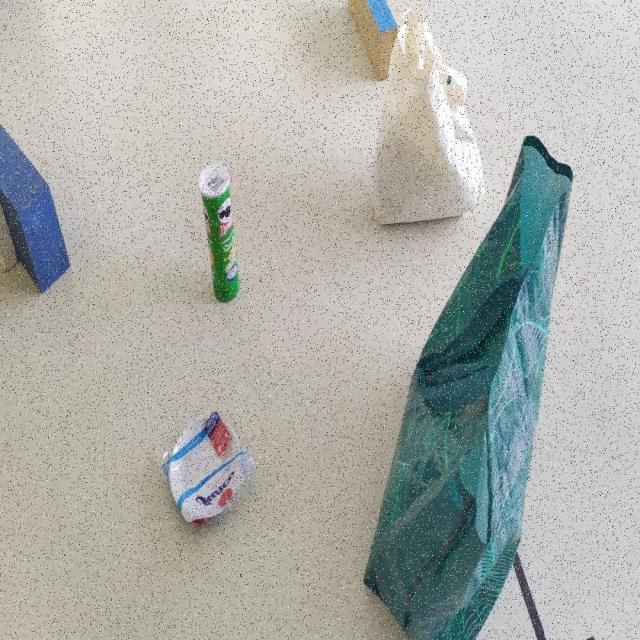Bag: (358, 145, 578, 640), (372, 11, 488, 223)
Plate: (168, 410, 246, 536)
Pringles: (199, 164, 243, 310)
